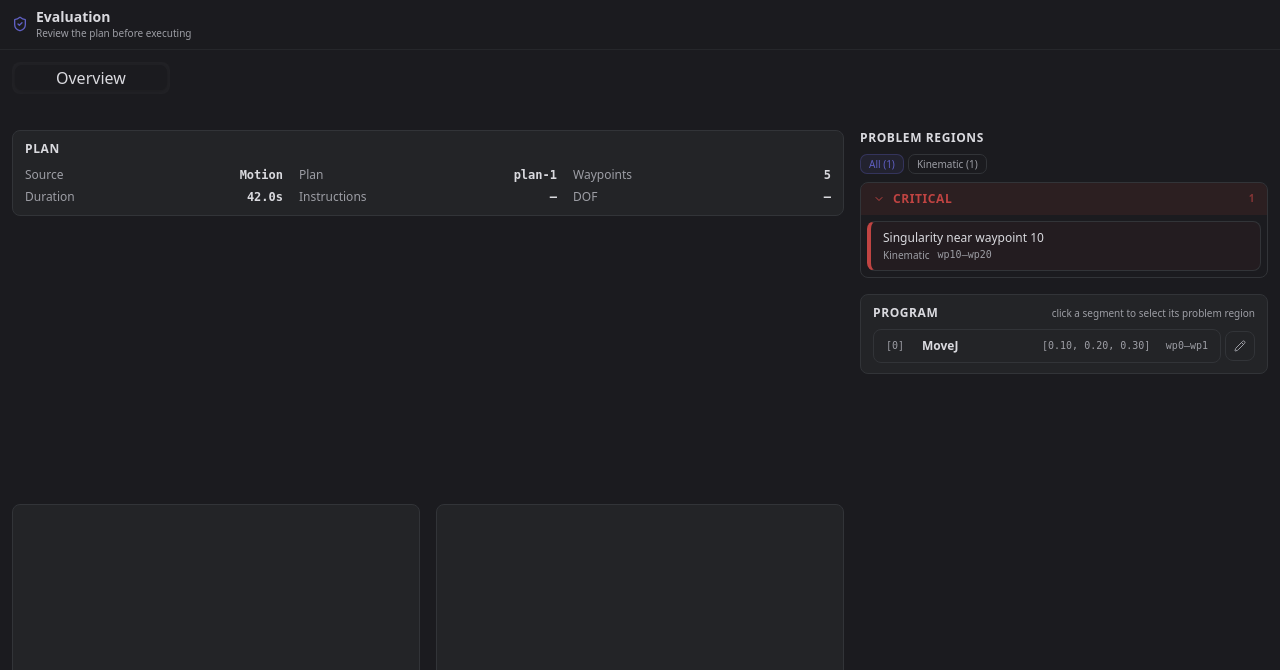
Scenario: EvaluationWorkspace — decision focus: trajectory + grouped regions, no dead actions › keeps the region drill-down within the evaluation workspace
Click the button "Singularity near waypoint 10 Kinematic wp10–wp20" at x=963, y=237, box [867,221,1261,271]
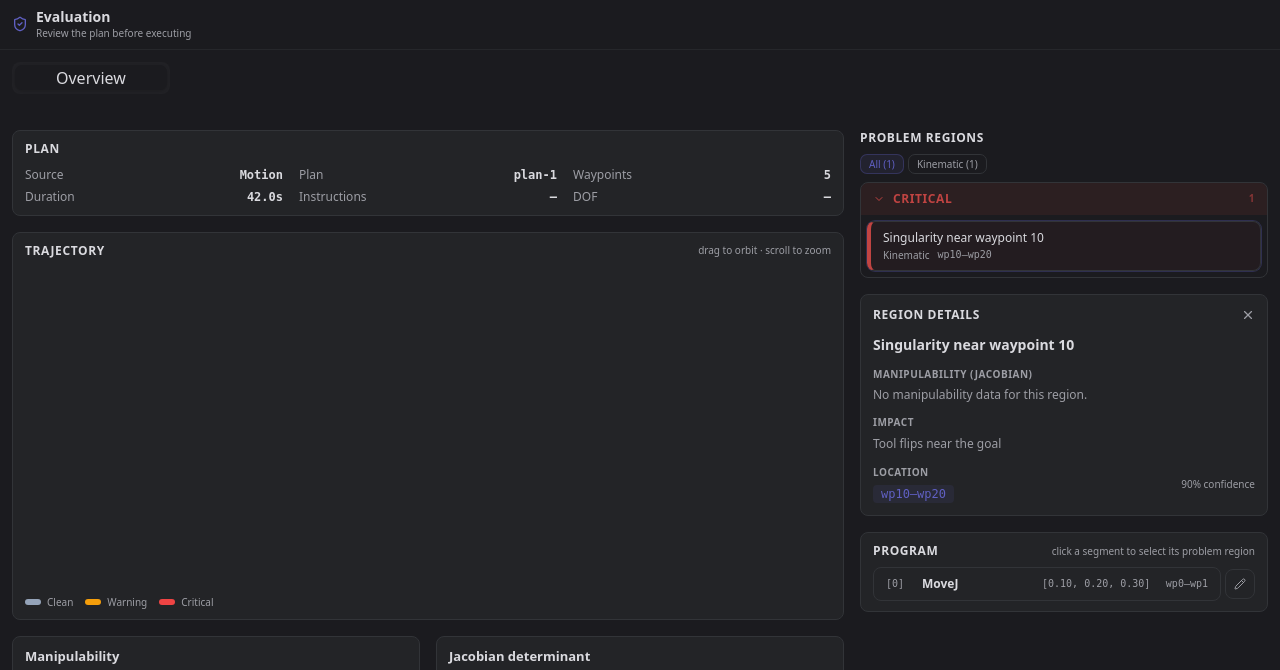
Result: the heading "Region Details" is shown at [873,307,980,323]
